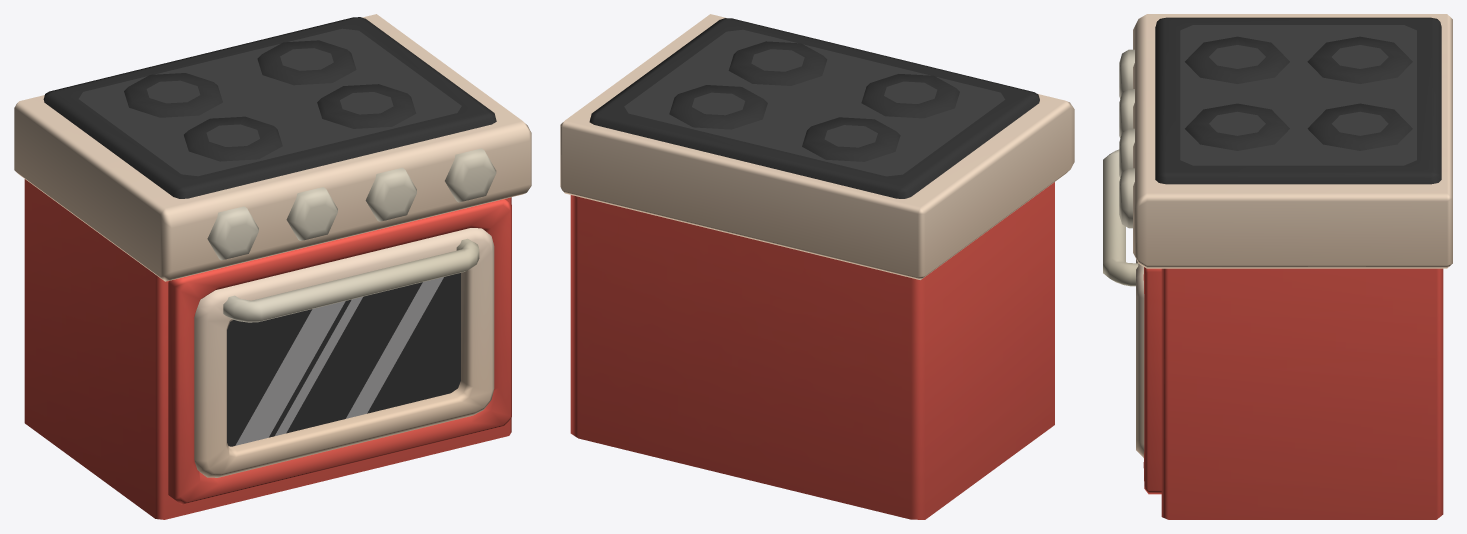
Rendered from Homestead_cm_11.fbx.
3 renders of one model, left to right at view 1: azimuth 30°, elevation 25°; view 2: azimuth 150°, elevation 25°; view 3: azimuth 270°, elevation 25°, orthographic. The views are drawn at different scales.
Visible parts, largest first — view 1: Homestead_cm_11; view 2: Homestead_cm_11; view 3: Homestead_cm_11.
Part boxes in pixels (x1,y1,x2,y2): Homestead_cm_11: [14, 14, 531, 519]; Homestead_cm_11: [560, 14, 1074, 519]; Homestead_cm_11: [1103, 14, 1452, 519].
Bounding box in the file's own units: 132 × 114 × 106.
